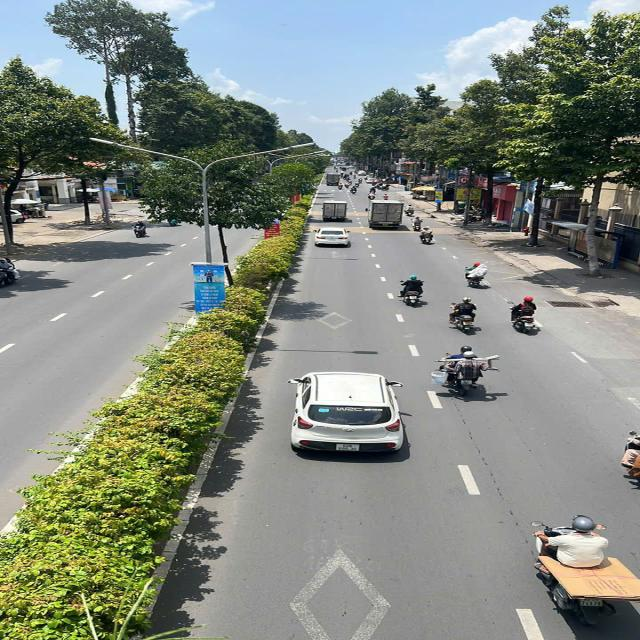ben: (365, 198, 407, 232), (318, 198, 352, 224), (325, 170, 342, 187)
car: (286, 369, 414, 458), (310, 225, 353, 249)
motobyte: (528, 517, 630, 632), (436, 344, 491, 401), (506, 295, 542, 335), (447, 295, 482, 336), (397, 273, 429, 310), (458, 260, 495, 290), (128, 218, 149, 240), (418, 225, 439, 246), (410, 214, 428, 231)
